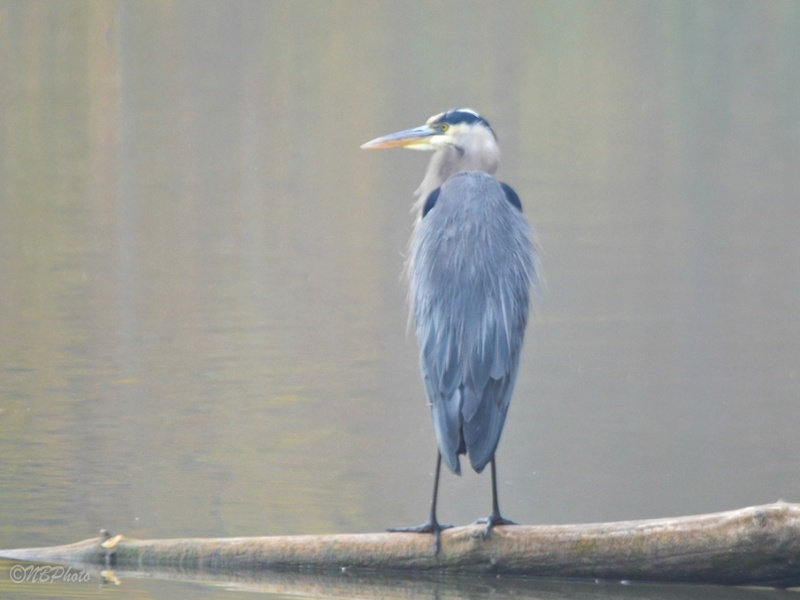heron: (357, 101, 544, 546)
